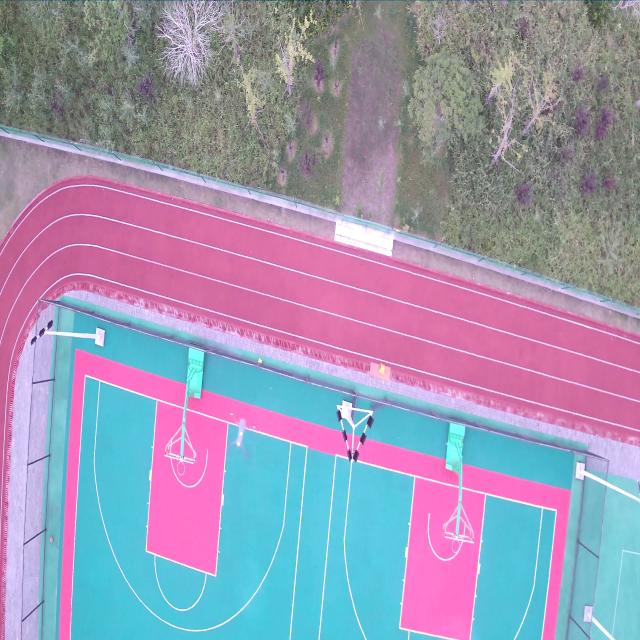UAV: (226, 412, 256, 462)
